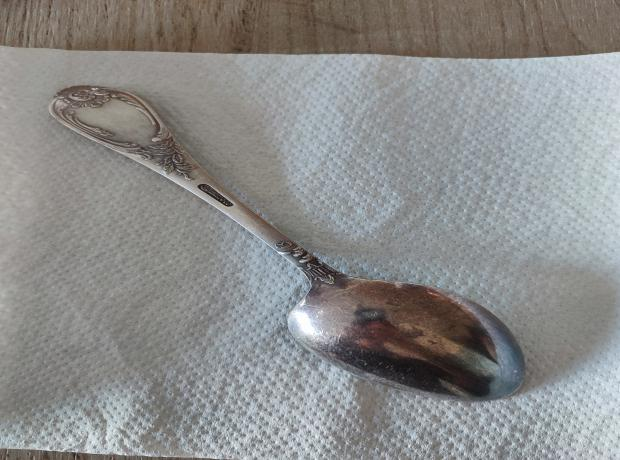metal: (50, 84, 530, 400)
